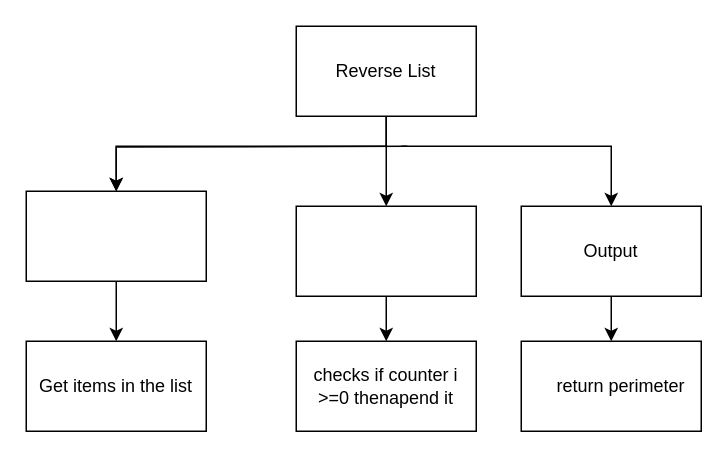
Some shapes in this 728 by 458 pixel diagram are drawn without their labels. The box of each missing label's shape, as (x1, y1, x2, y2) in pixels:
Input: (25, 190, 206, 281)
Process: (295, 205, 476, 296)
